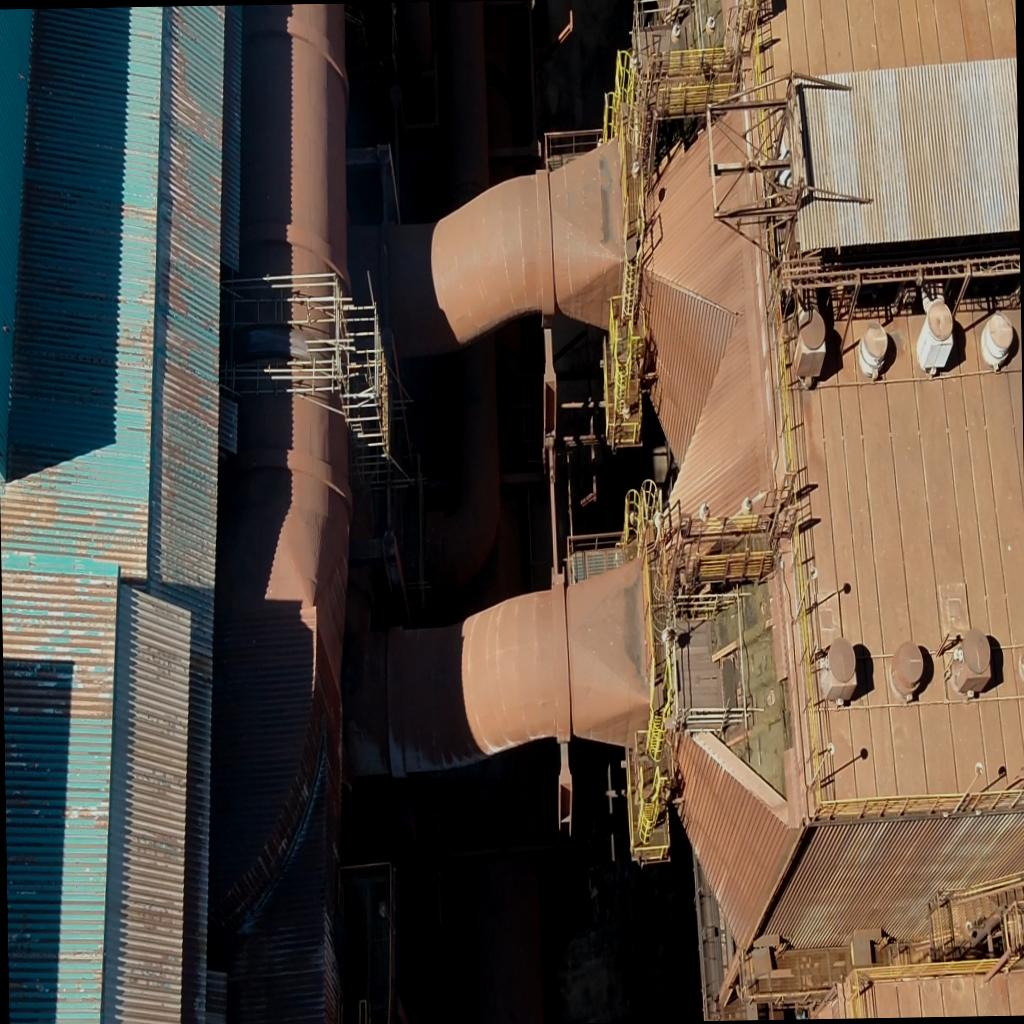Failures: (680, 568, 782, 780)
